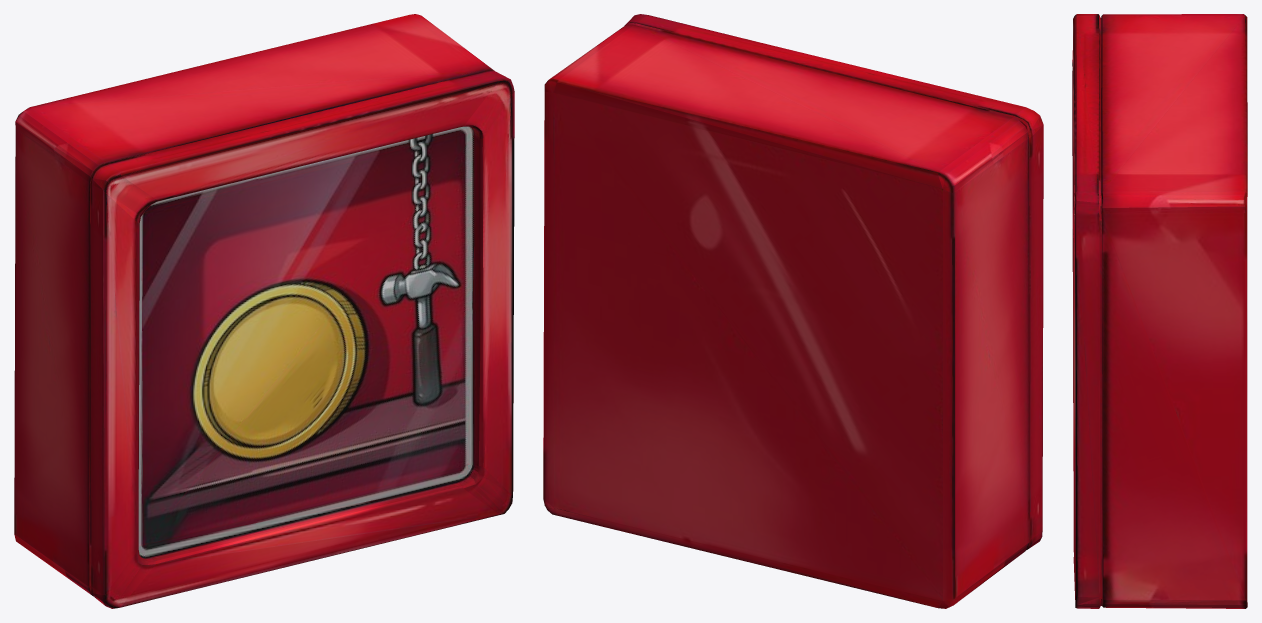
Rendered from emergency_fund.glb.
The picture shows the model from 3 angles, left to right: view 1: azimuth 30°, elevation 25°; view 2: azimuth 150°, elevation 25°; view 3: azimuth 270°, elevation 25°; orthographic projection. The views are drawn at different scales.
Size of the model in its own units: 0.9883 by 1 by 0.3838.
Materials: 1 (1 with a texture image).
